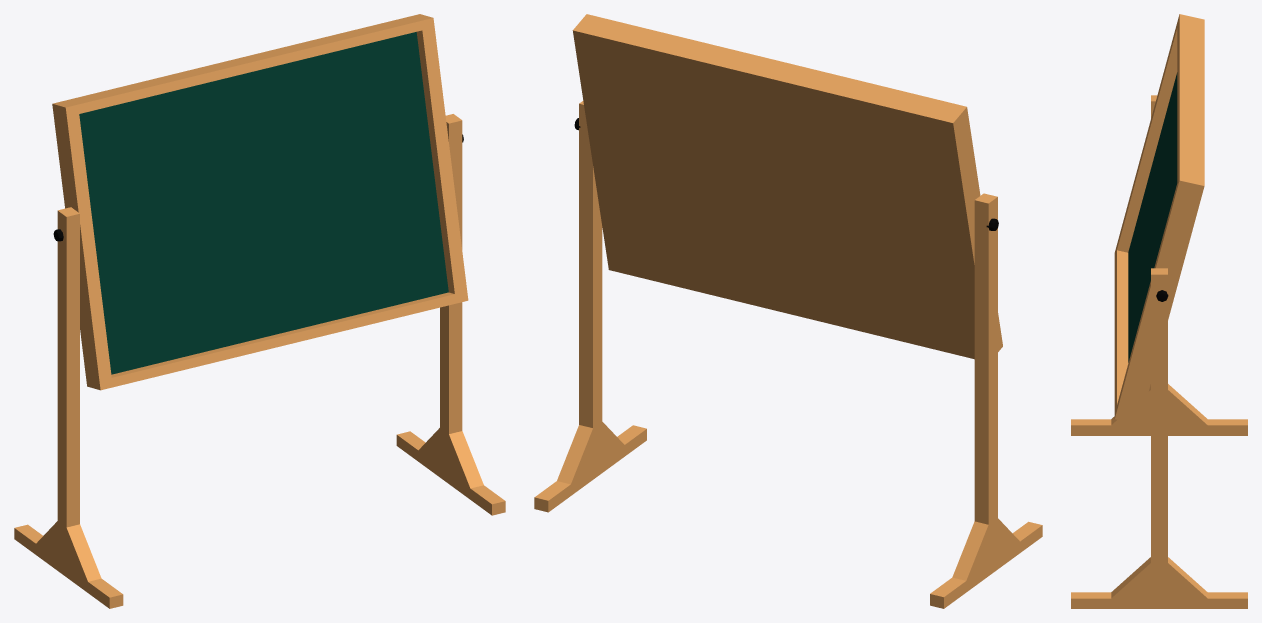
Rendered from Green board.fbx.
3 renders of one model, left to right at view 1: azimuth 30°, elevation 25°; view 2: azimuth 150°, elevation 25°; view 3: azimuth 270°, elevation 25°, orthographic. The views are drawn at different scales.
Visible parts, largest first — view 1: bord__1_; view 2: bord__1_; view 3: bord__1_.
Part boxes in pixels (box(x1,y1,x2,y2)): bord__1_: box(14, 14, 505, 608); bord__1_: box(534, 14, 1042, 608); bord__1_: box(1071, 14, 1247, 608).
Size of the model in its own units: 374 by 400 by 152.
1 material, 1 textured.
